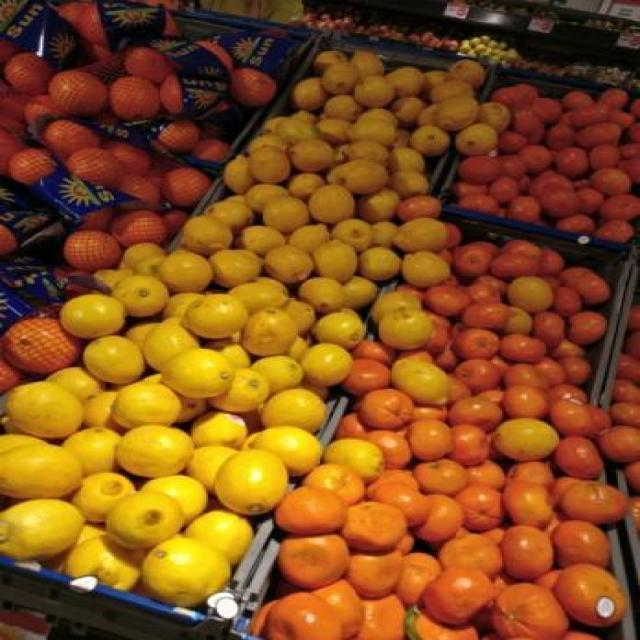Clementine: (431, 566, 499, 626), (502, 588, 568, 639), (500, 524, 560, 579), (353, 497, 412, 550), (412, 451, 476, 496), (454, 241, 494, 272)
